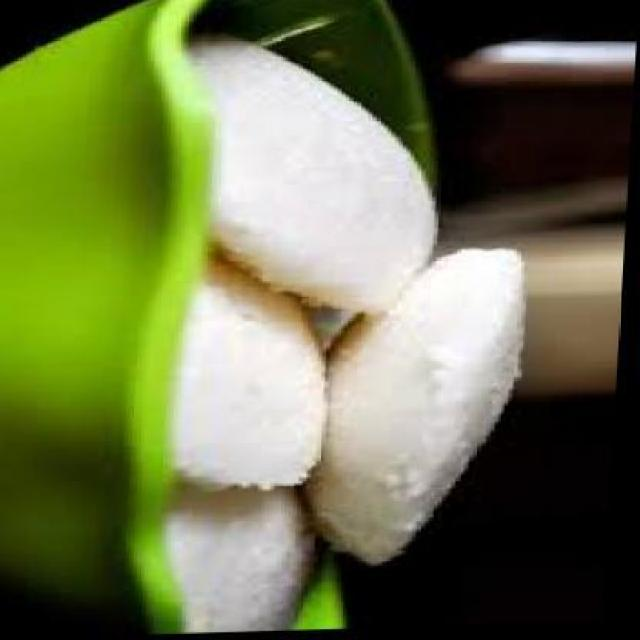idli: (174, 31, 446, 320), (304, 252, 530, 568), (174, 248, 338, 494), (168, 472, 330, 636)
